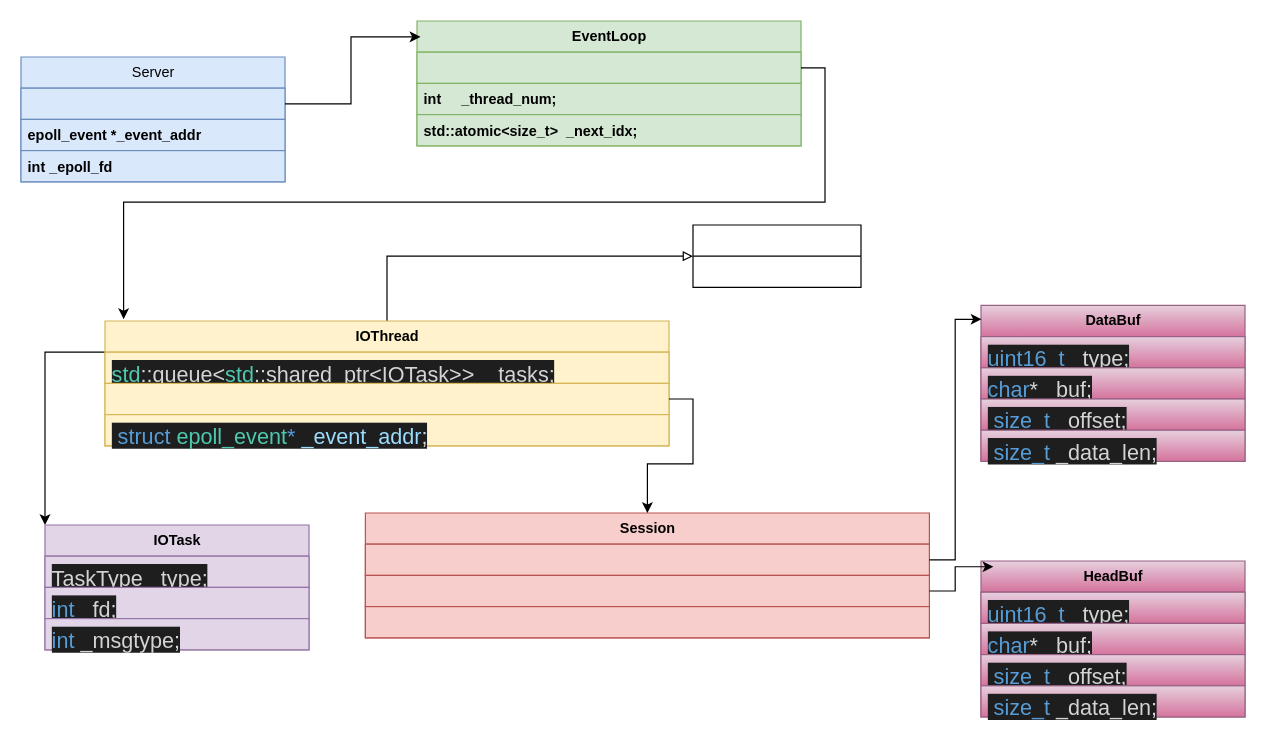
Some shapes in this 1266 by 742 pixel diagram are drawn without their labels. The centre of each missing label's shape, as x and y in pixels:
"NoneCopy" goes at (776,255).
"std ::queue< std ::shared_ptr<DataBuf>> _send_que;" goes at (646,621).
"std ::shared_ptr<DataBuf> _data_buf;" goes at (646,559).
"std ::shared_ptr<HeadBuf> _head_buf;" goes at (646,590).
"std ::unordered_map< int , std ::shared_ptr<Session>> _sessions;" goes at (386,398).
"std::shared_ptr<EventLoop> _loop" goes at (152,103).
"std::vector<unique_ptr<IOThread>>_work_threads" goes at (608,67).
